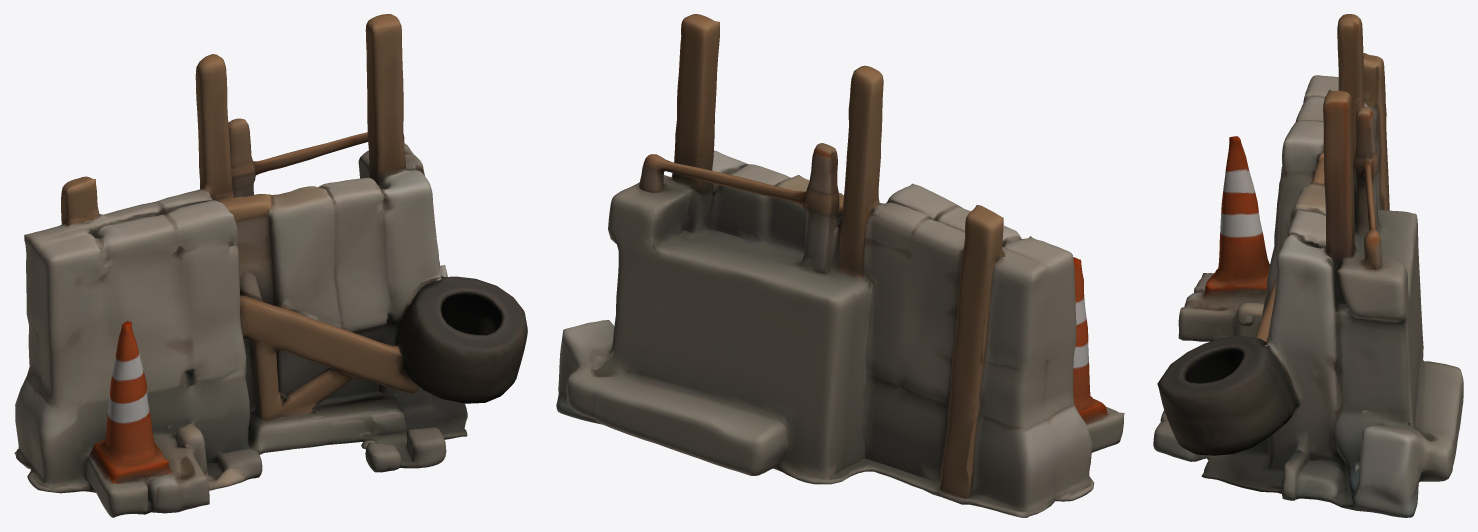
Rendered from SM_Environment_ConstructionDebris_01.fbx.
3 views of the same model, side by side, from view 1: azimuth 30°, elevation 25°; view 2: azimuth 150°, elevation 25°; view 3: azimuth 270°, elevation 25° (orthographic). The views are drawn at different scales.
Parts seen in each view (by area): view 1: SM_Environment_ConstructionDebris_01; view 2: SM_Environment_ConstructionDebris_01; view 3: SM_Environment_ConstructionDebris_01.
Boxes of the visible parts, x1=… form: SM_Environment_ConstructionDebris_01: x1=14, y1=14, x2=527, y2=517; SM_Environment_ConstructionDebris_01: x1=556, y1=14, x2=1124, y2=517; SM_Environment_ConstructionDebris_01: x1=1153, y1=14, x2=1463, y2=517.
Bounding box in the file's own units: 0.9944 × 0.7766 × 0.5734.
Materials: 1 (1 with a texture image).
